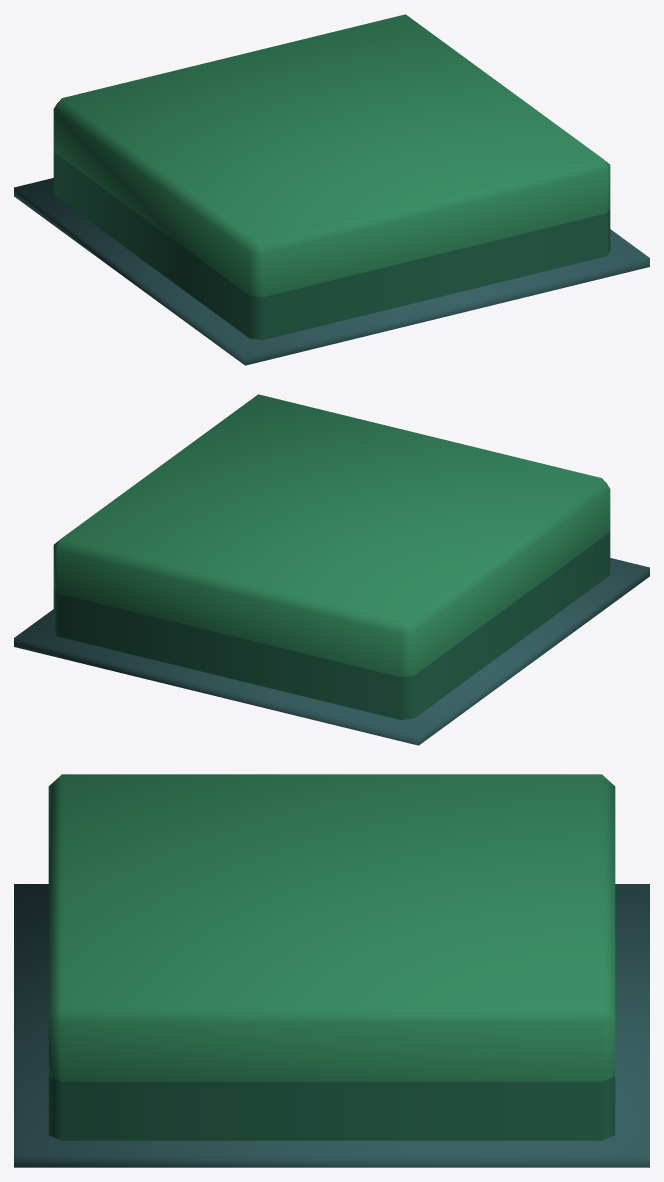
File: RoofAdd_2_B_1.fbx
3 renders of one model, top to bottom at view 1: azimuth 30°, elevation 25°; view 2: azimuth 150°, elevation 25°; view 3: azimuth 270°, elevation 25°, orthographic. The views are drawn at different scales.
Parts seen in each view (by area): view 1: RoofAdd_2_B_1; view 2: RoofAdd_2_B_1; view 3: RoofAdd_2_B_1.
Part boxes in pixels (bbox=[...]): RoofAdd_2_B_1: bbox=[14, 14, 649, 365]; RoofAdd_2_B_1: bbox=[14, 394, 649, 745]; RoofAdd_2_B_1: bbox=[14, 774, 649, 1167].
Bounding box in the file's own units: 303 × 74.17 × 300.
